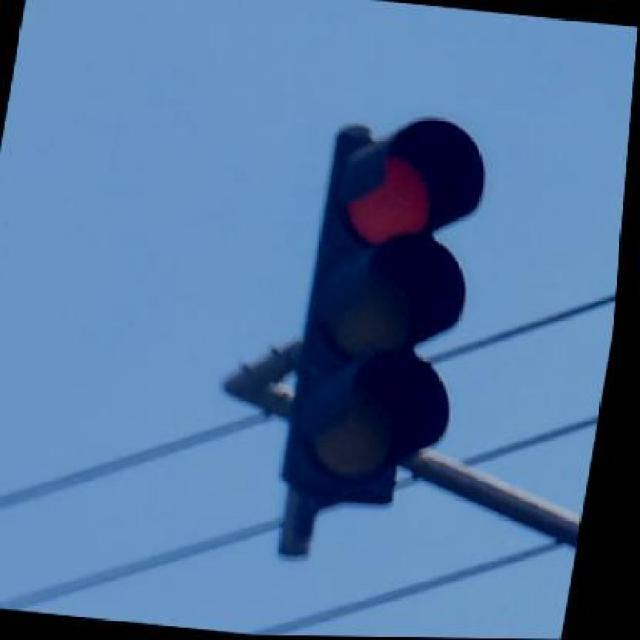red_light: (280, 119, 482, 500)
